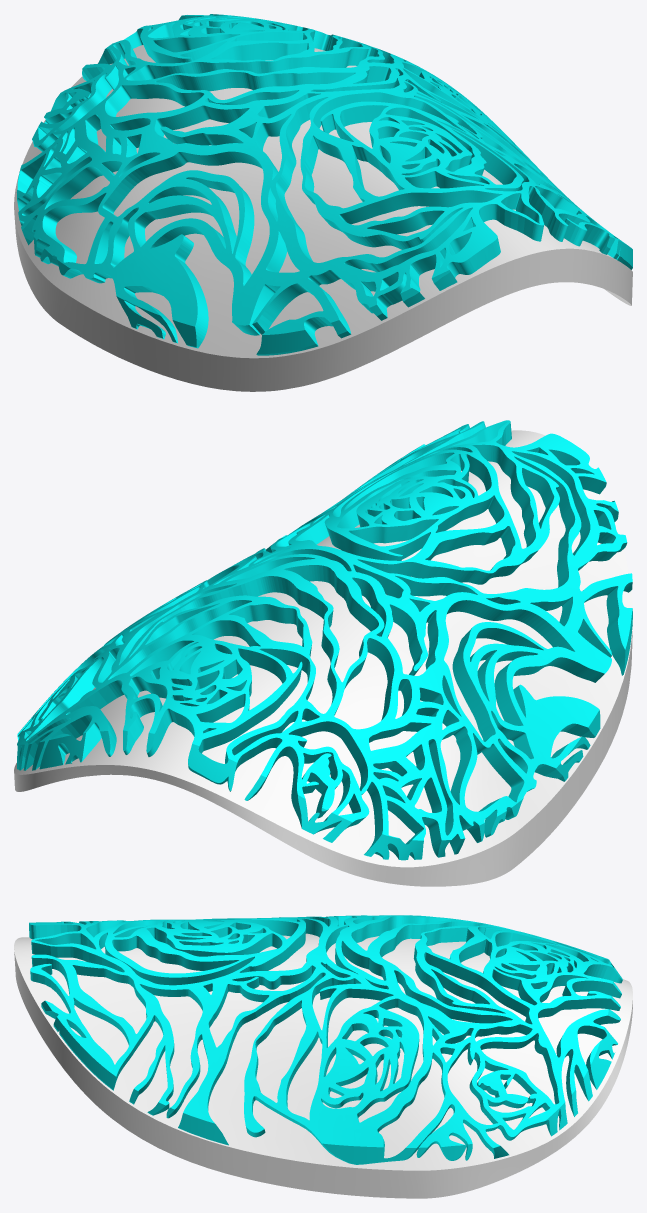
File: leopard-rose-oval-full.glb
The picture shows the model from 3 angles, top to bottom: view 1: azimuth 30°, elevation 25°; view 2: azimuth 150°, elevation 25°; view 3: azimuth 270°, elevation 25°; orthographic projection. The views are drawn at different scales.
Size of the model in its own units: 0.0139 by 0.00641 by 0.0201.
